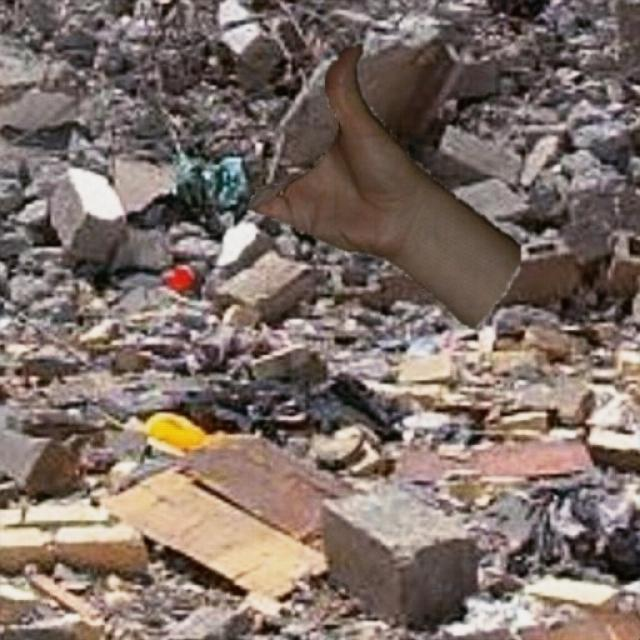Person in Rubble: (246, 44, 520, 328)
